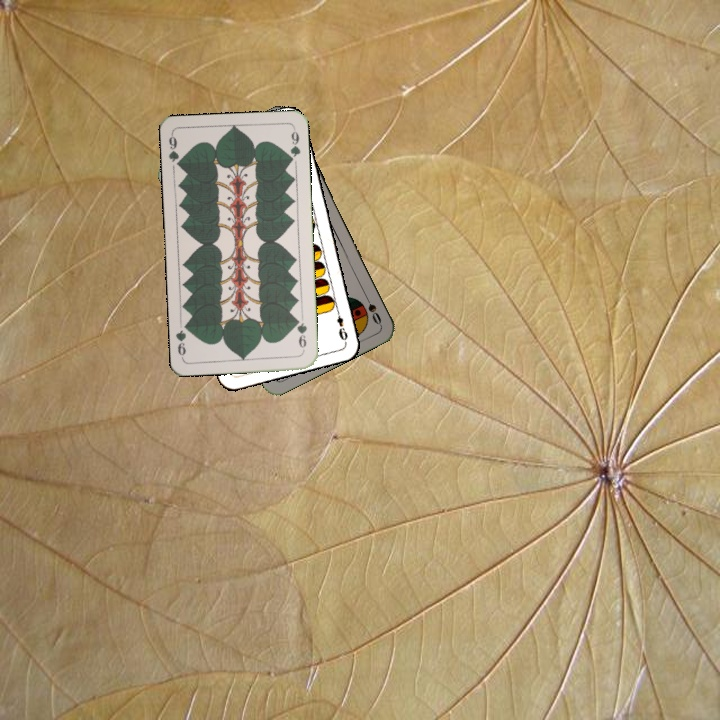E9: (332, 304, 350, 344)
G9: (165, 131, 184, 171), (292, 314, 309, 354)
SO: (360, 289, 384, 327)
